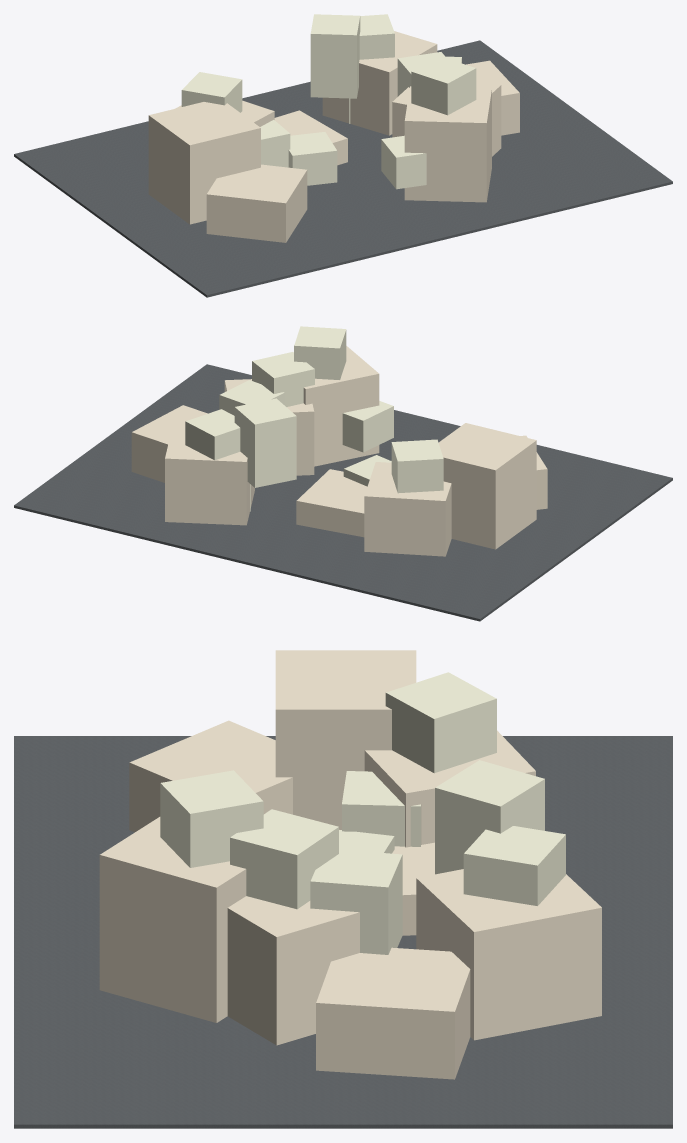
3 views of the same model, one above another, from view 1: azimuth 30°, elevation 25°; view 2: azimuth 150°, elevation 25°; view 3: azimuth 270°, elevation 25° (orthographic). The views are drawn at different scales.
Visible parts, largest first — view 1: 34703, Cube 1#3, Cube 1#1, Cube 1, Cube 1#5, 33339, 33333, 33331, 33332, 33337, 33338, Cube 1#6 (+5 smaller); view 2: 34703, Cube 1#3, Cube 1#5, Cube 1#4, Cube 1#1, 33339, Cube 1#7, 33337, Cube 1#6, 33333, 33334, 33338 (+5 smaller); view 3: 34703, Cube 1#5, Cube 1#1, Cube 1#6, Cube 1#3, Cube 1#2, Cube 1, 33337, 33339, 33333, 33334, 33335 (+5 smaller).
Boxes of the visible parts, x1,y1,x2,y2 form: 34703: (14,40,672,297); Cube 1#3: (148,102,260,224); Cube 1#1: (404,86,491,202); Cube 1: (206,164,307,242); Cube 1#5: (322,31,437,135); 33339: (310,14,360,98); 33333: (411,56,476,115); 33331: (288,132,337,185); 33332: (381,135,426,189); 33337: (181,72,242,112); 33338: (349,14,394,123); Cube 1#6: (466,60,519,135); 34703: (14,364,672,621); Cube 1#3: (438,423,536,549); Cube 1#5: (165,424,254,525); Cube 1#4: (364,462,451,556); Cube 1#1: (303,346,379,466); 33339: (234,398,296,487); Cube 1#7: (296,469,367,537); 33337: (391,439,443,493); Cube 1#6: (131,405,207,482); 33333: (294,326,346,379); 33334: (252,352,314,406); 33338: (185,409,250,511); 34703: (14,736,672,1128); Cube 1#5: (416,869,601,1040); Cube 1#1: (99,817,246,1022); Cube 1#6: (316,947,470,1079); Cube 1#3: (275,650,416,829); Cube 1#2: (227,896,359,1045); Cube 1: (129,720,292,832); 33337: (385,672,496,773); 33339: (435,760,544,874); 33333: (160,770,263,867); 33334: (230,809,338,909); 33335: (310,849,402,954).
Size of the model in its own units: 61.51 by 14.31 by 44.1.
Materials: 156 (6 with a texture image).
